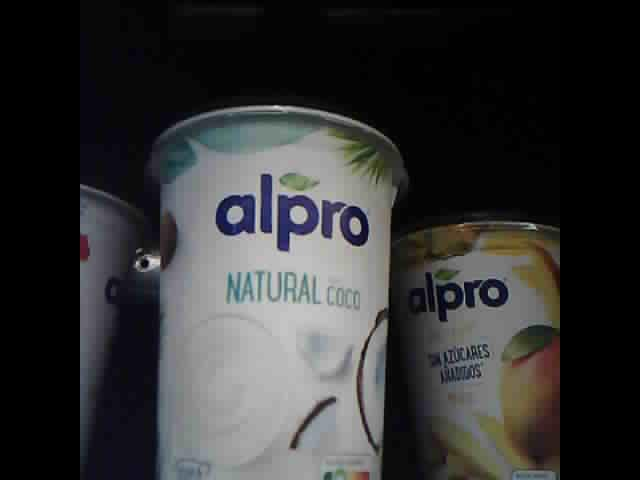alpro: (148, 102, 409, 480), (392, 210, 559, 480), (81, 166, 147, 480)
